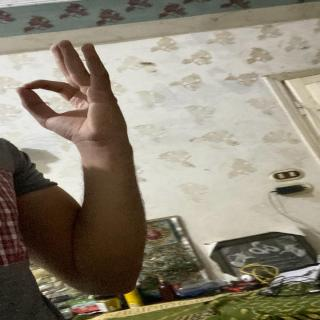Space: (7, 38, 123, 152)
